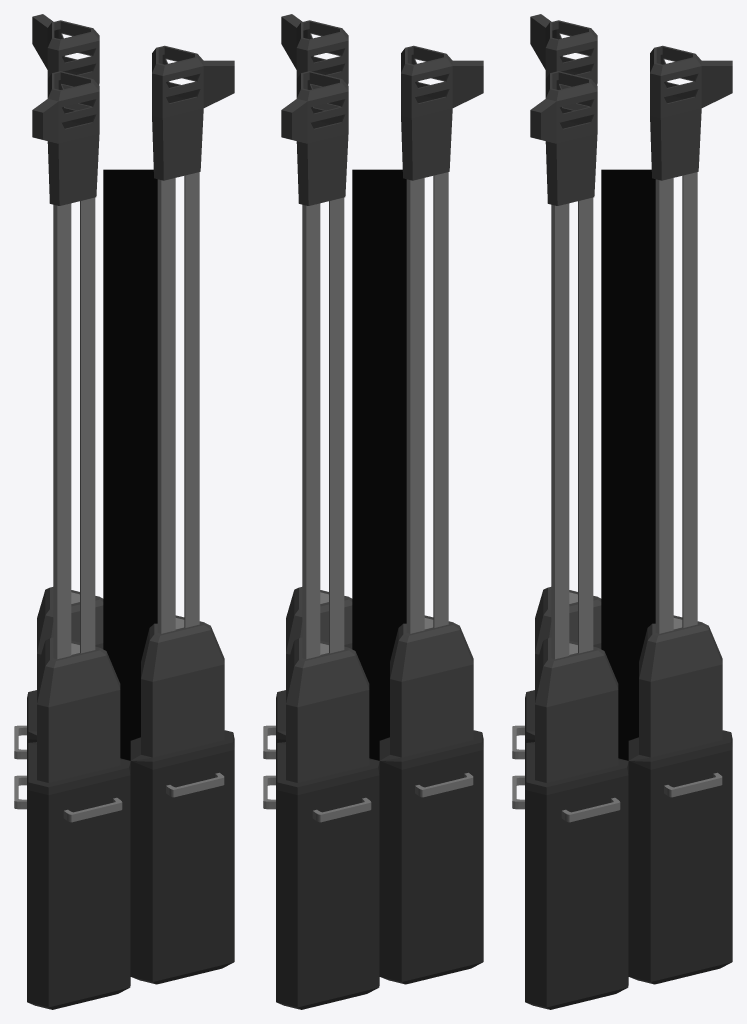
Rendered from Wea_JiGuangPao_1X6_on.FBX.
3 views of the same model, side by side, from view 1: azimuth 30°, elevation 25°; view 2: azimuth 150°, elevation 25°; view 3: azimuth 270°, elevation 25° (orthographic).
Parts seen in each view (by area): view 1: Box002; view 2: Box002; view 3: Box002.
Boxes of the visible parts, box(x1,y1,x2,y2) form: Box002: box(14, 14, 234, 1009); Box002: box(263, 14, 483, 1009); Box002: box(512, 14, 732, 1009).
Bounding box in the file's own units: 1.45 × 6 × 1.32.
